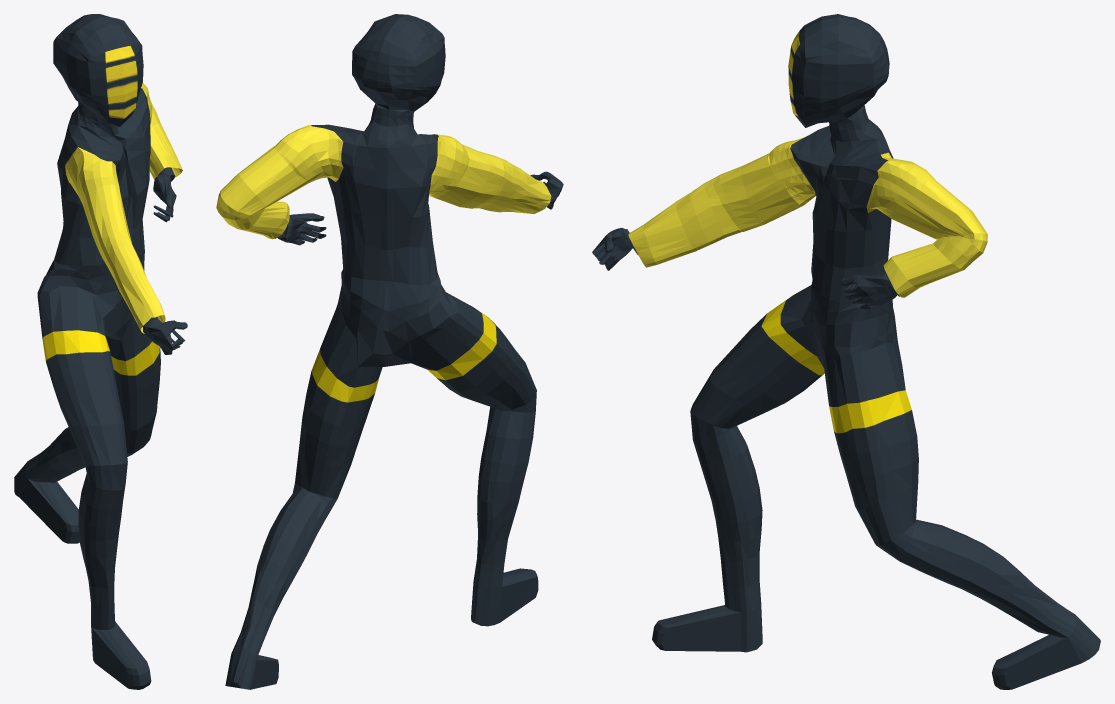
The model's file is Sentry_WR_000025.obj.
3 views of the same model, side by side, from view 1: azimuth 30°, elevation 25°; view 2: azimuth 150°, elevation 25°; view 3: azimuth 270°, elevation 25° (orthographic). The views are drawn at different scales.
Visible parts, largest first — view 1: Cube; view 2: Cube; view 3: Cube.
Part boxes in pixels (x1,y1,x2,y2): Cube: [14, 14, 187, 689]; Cube: [216, 14, 563, 689]; Cube: [592, 14, 1100, 689].
Size of the model in its own units: 1.18 by 3.6 by 2.55.
